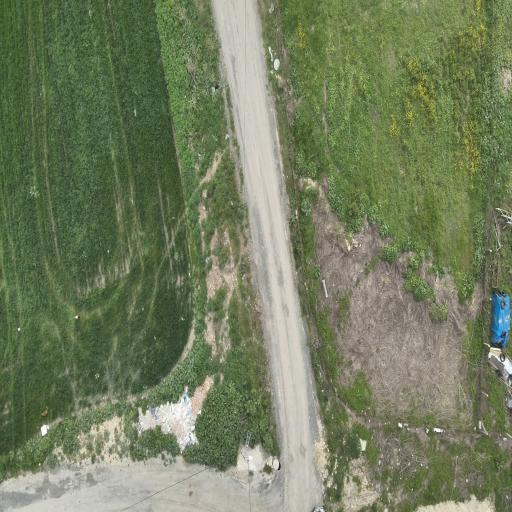car: (312, 508, 324, 511)
